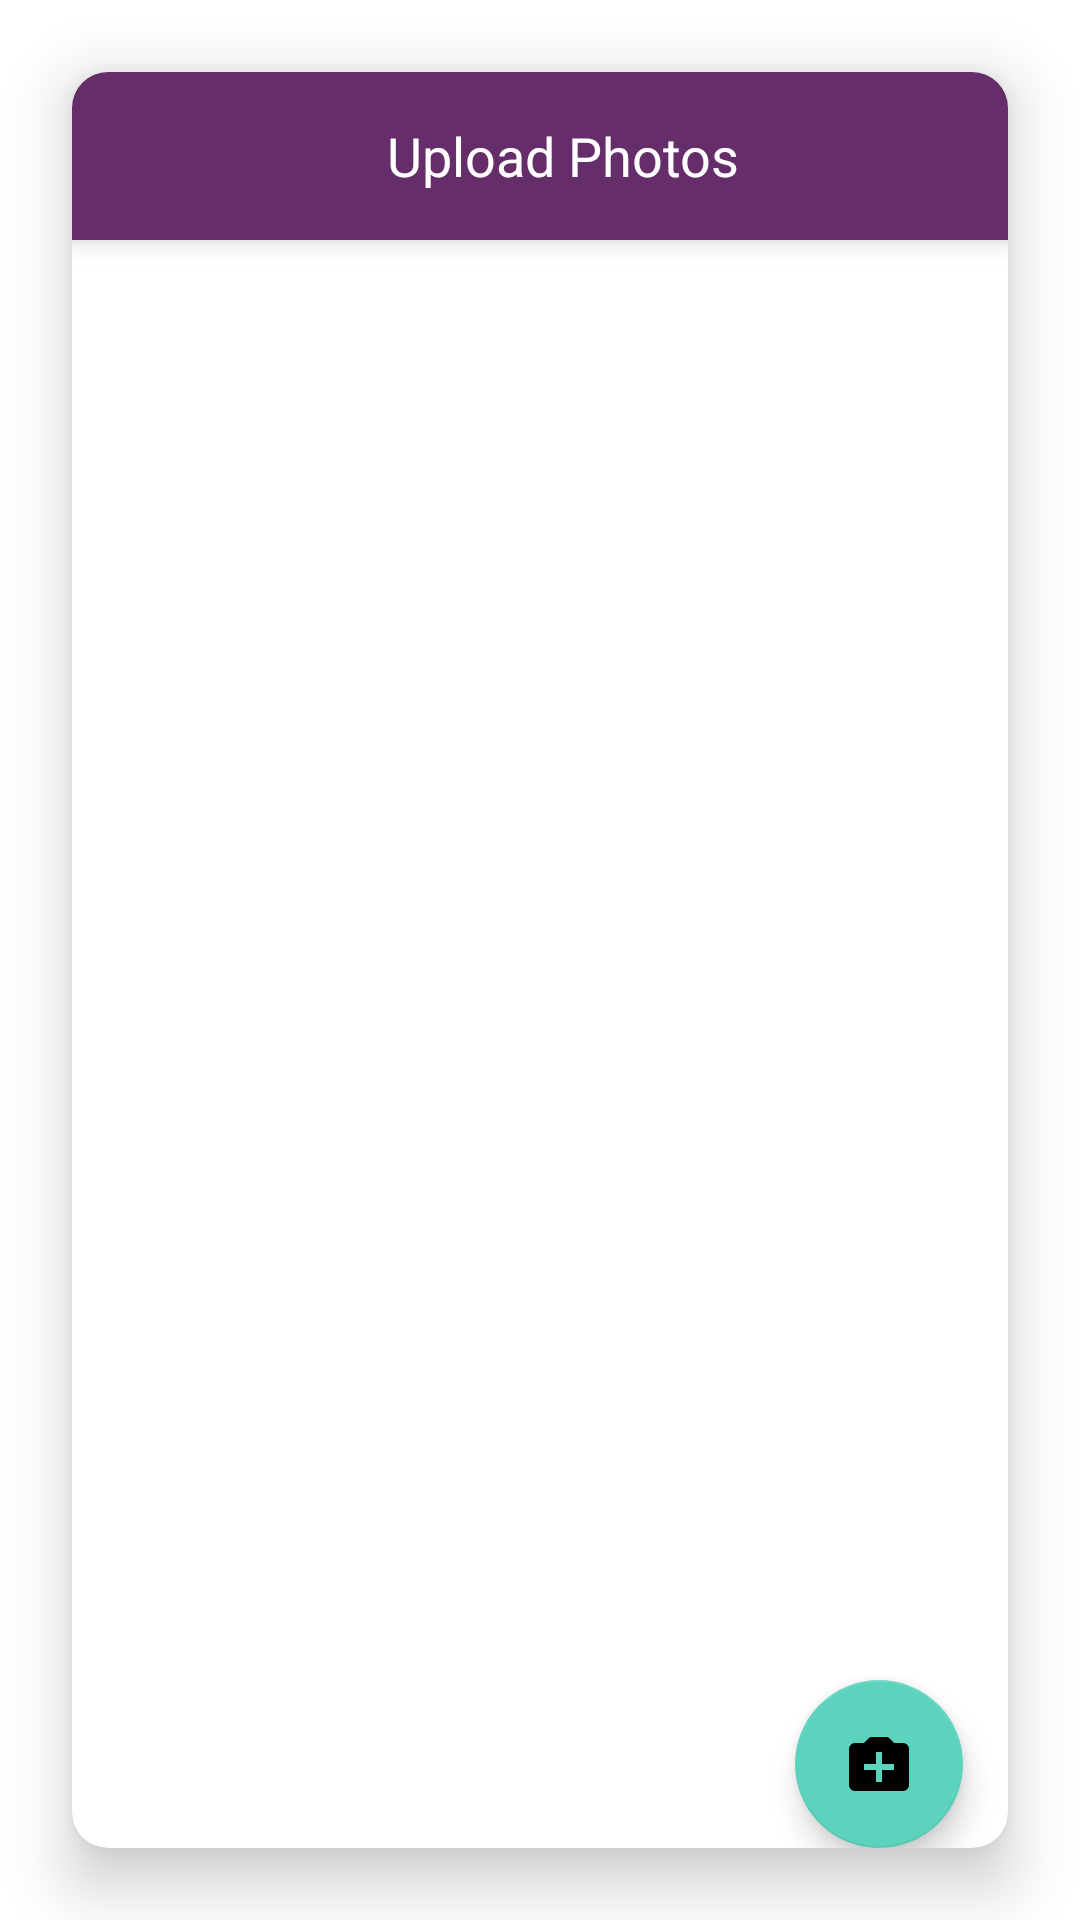

Screen size 1080 x 1920. Icon name, then its box in pixels as (x1, y1, x2, y2):
add photos: (795, 1680, 963, 1848)
